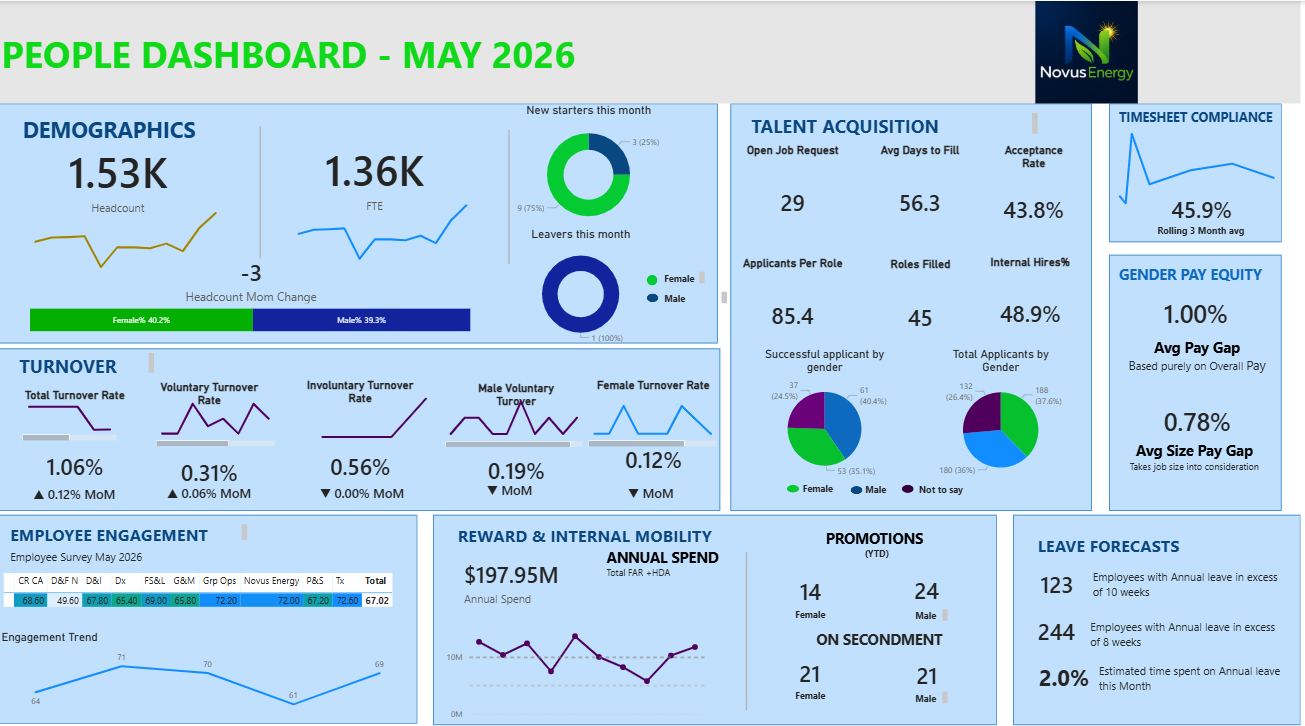

This screenshot's page, from the dashboard's own definition file:
{"tool":"powerbi","page":{"name":"Page 1","canvas":[1920,1080],"ordinal":0},"visuals":[{"type":"shape","box":[0,753.3,615.4,306.7],"z":0},{"type":"shape","box":[638.1,753.3,827.4,308.7],"z":1000},{"type":"shape","box":[1490.2,753.3,422,308.7],"z":2000},{"type":"shape","box":[1630,372.9,252.9,375.7],"z":3000},{"type":"shape","box":[1630.6,150.4,253.1,203.6],"z":4000},{"type":"shape","box":[2,510,1058,238],"z":5000},{"type":"shape","box":[1074,150,530,598],"z":6000},{"type":"shape","box":[0,150,1056,352],"z":7000},{"type":"textbox","box":[9.2,0,1911.3,122.9],"z":8000},{"type":"textbox","box":[0,0,1911.3,150.4],"z":9000},{"type":"image","box":[1520.6,0,154.1,150.4],"z":10000},{"type":"cardVisual","title":"Headcount","fields":{"Data":["Annual_Spend.Headcount"]},"box":[0,122,352,276],"z":11000},{"type":"cardVisual","title":"FTE","fields":{"Data":["Annual_Spend.FTE"]},"box":[395.2,142,317,232.6],"z":12000},{"type":"cardVisual","fields":{"Data":["Employee_Master.Headcount Mom Change"]},"box":[228,354,288,110],"z":13000},{"type":"donutChart","title":"New starters this month","fields":{"Y":["Employee_Master.New starters Male","Employee_Master.New starters Female"]},"box":[698.6,150,335.7,188.6],"z":14000},{"type":"donutChart","title":"Leavers this month","fields":{"Y":["Employee_Master.Leavers Female","Employee_Master.Leavers Male"]},"box":[670,331.4,371.4,175.7],"z":15000},{"type":"cardVisual","title":"Open Job Request","fields":{"Data":["Job_Requisitions.Open Jobs Reqs"]},"box":[1073,209,186.7,150],"z":16000},{"type":"cardVisual","title":"Applicants Per Role","fields":{"Data":["Job_Requisitions.Applicants Per Role"]},"box":[1073,374,186.7,150],"z":17000},{"type":"cardVisual","title":"Acceptance Rate","fields":{"Data":["Job_Requisitions.Acceptance Rate"]},"box":[1442.9,210,152.9,150],"z":18000},{"type":"cardVisual","title":"Internal Hires%","fields":{"Data":["Job_Requisitions.Internal Hire %"]},"box":[1430,372,168,150],"z":19000},{"type":"cardVisual","title":"Avg Days to Fill","fields":{"Data":["Job_Requisitions.Avg Days to Fill"]},"box":[1277.1,208.6,152.9,150],"z":20000},{"type":"cardVisual","title":"Total Turnover Rate","fields":{"Data":["Employee_Master.Total Turnover Rate"]},"box":[2,568,222,204],"z":21000},{"type":"cardVisual","title":"Female Turnover Rate","fields":{"Data":["Employee_Master.Female Voluntary Turnover Rate"]},"box":[854,554,214,214],"z":22000},{"type":"cardVisual","title":"Male Voluntary Turover","fields":{"Data":["Employee_Master.Male Voluntary Turnover Rate"]},"box":[658,558,204,216],"z":23000},{"type":"cardVisual","title":"Voluntary Turnover Rate","fields":{"Data":["Employee_Master.Voluntary Turnover Rate"]},"box":[210,556,202,226],"z":24000},{"type":"cardVisual","title":"Involuntary Turnover Rate","fields":{"Data":["Annual_Spend.Involuntary Turnover Rate"]},"box":[426,554,212,214],"z":25000},{"type":"cardVisual","title":"Roles Filled","fields":{"Data":["Job_Requisitions.Roles Filled"]},"box":[1258.3,376,190.8,152.2],"z":26000},{"type":"lineChart","fields":{"Category":["Headcount_History.Month.Variation.Date Hierarchy.Month"],"Y":["Avg(Headcount_History.Headcount)"]},"box":[40,298,294,102],"z":27000},{"type":"lineChart","fields":{"Y":["Avg(Headcount_History.FTE)"],"Category":["Headcount_History.Month.Variation.Date Hierarchy.Month"]},"box":[428,284,274,102],"z":28000},{"type":"barChart","fields":{"Y":["Employee_Master.Female%","Employee_Master.Male%"]},"box":[42,394,660,142],"z":29000},{"type":"shape","box":[952.9,401.4,15.7,15.7],"z":30000},{"type":"shape","box":[951.4,428.6,17.1,12.9],"z":31000},{"type":"textbox","box":[971.4,392.9,70,27.1],"z":32000},{"type":"textbox","box":[971.4,421.4,102.9,27.1],"z":33000},{"type":"pivotTable","fields":{"Values":["Engagement_Survey.Avg Engagement Score"],"Columns":["Engagement_Survey.Business_Unit"]},"box":[2.9,834.3,615.7,121.4],"z":34000},{"type":"lineChart","title":"Engagement Trend","fields":{"Category":["Engagement_Survey.Survey_Month.Variation.Date Hierarchy.Month"],"Y":["Engagement_Survey.Avg Engagement Score"]},"box":[0,922.1,615.4,119.4],"z":35000},{"type":"cardVisual","fields":{"Data":["Annual_Spend.Annual Spend"]},"box":[654.5,784.2,294.3,137.9],"z":36000},{"type":"cardVisual","fields":{"Data":["Promotions_Secondments.Promotions Female"]},"box":[1259.7,808.9,205.8,109.1],"z":37000},{"type":"cardVisual","fields":{"Data":["Promotions_Secondments.Promotions Male"]},"box":[1101.2,788.3,183.2,152.3],"z":38000},{"type":"cardVisual","fields":{"Data":["Promotions_Secondments.On Secondment Female"]},"box":[1071.2,930,240.3,110.1],"z":39000},{"type":"cardVisual","fields":{"Data":["Promotions_Secondments.On Secondment Male"]},"box":[1216.5,938.6,294.3,96.7],"z":40000},{"type":"cardVisual","fields":{"Data":["Timesheets.Timesheet Compliance"]},"box":[1619.6,229.3,293.5,150.4],"z":41000},{"type":"cardVisual","fields":{"Data":["Salary_Data.Gender Pay Gap"]},"box":[1610,390,294.3,131.4],"z":42000},{"type":"cardVisual","fields":{"Data":["Leave_Balances.Leave Excess 10 Weeks"]},"box":[1490.2,811,129.7,86.4],"z":43000},{"type":"cardVisual","fields":{"Data":["Leave_Balances.Leave Excess 8 Weeks"]},"box":[1490.2,878.9,127.6,90.6],"z":44000},{"type":"cardVisual","fields":{"Data":["Salary_Data.Size Adjustment Pay Gap"]},"box":[1608.6,558.6,302.9,111.4],"z":45000},{"type":"lineChart","fields":{"Category":["Timesheets.Week_Ending.Variation.Date Hierarchy.Day"],"Y":["Timesheets.Monthly Timesheet Compliance"]},"box":[1614.3,160,290,162.9],"z":46000},{"type":"lineChart","fields":{"Category":["Annual_Spend.Month.Variation.Date Hierarchy.Month"],"Y":["Sum(Annual_Spend.Amount)"]},"box":[652.5,907.7,389,152.3],"z":47000},{"type":"textbox","box":[12.3,763.6,358.1,37],"z":48000},{"type":"textbox","box":[12.9,800,300,34.3],"z":49000},{"type":"lineChart","fields":{"Category":["Headcount_History.Month.Variation.Date Hierarchy.Month"],"Y":["Sum(Headcount_History.Headcount)"]},"box":[32,576,148,74],"z":50000},{"type":"lineChart","fields":{"Category":["Employee_Master.Termination_Date.Variation.Date Hierarchy.Month"],"Y":["Employee_Master.Monthly Voluntary Turnover"]},"box":[228,572,184,86],"z":51000},{"type":"lineChart","fields":{"Category":["Employee_Master.Termination_Date.Variation.Date Hierarchy.Month"],"Y":["Employee_Master.Voluntary Turnover Rate"]},"box":[452,556,202,110],"z":52000},{"type":"lineChart","fields":{"Category":["Employee_Master.Termination_Date.Variation.Date Hierarchy.Month"],"Y":["Employee_Master.Monthly Voluntary Turnover"]},"box":[650.4,568.1,212,90.6],"z":53000},{"type":"lineChart","fields":{"Category":["Employee_Master.Termination_Date.Variation.Date Hierarchy.Month"],"Series":["Employee_Master.Termination_Type"],"Y":["Employee_Master.Monthly Voluntary Turnover"]},"box":[862.4,576.3,197.6,82.3],"z":54000},{"type":"textbox","box":[1521.1,778,300.5,55.6],"z":55000},{"type":"textbox","box":[670,762.5,430,42.5],"z":56000},{"type":"textbox","box":[887.1,796.6,257.3,65.9],"z":57000},{"type":"textbox","box":[1601.4,829.5,298.5,53.5],"z":58000},{"type":"textbox","box":[1597.3,901.5,298.5,53.5],"z":59000},{"type":"pieChart","title":"Successful applicant by gender","fields":{"Category":["Applicant_Demographics.Gender"],"Y":["CountNonNull(Applicant_Demographics.Applicant_ID)"]},"box":[1100,508.3,225,198.3],"z":60000},{"type":"pieChart","title":"Total Applicants by Gender","fields":{"Y":["CountNonNull(Applicant_Demographics.Applicant_ID)"],"Category":["Applicant_Demographics.Gender"]},"box":[1356.7,508.3,228.3,201.7],"z":61000},{"type":"textbox","box":[1100,160,430,42.5],"z":62000},{"type":"textbox","box":[1640,151.7,280,41.7],"z":63000},{"type":"shape","box":[1156.7,710,18.3,11.7],"z":64000},{"type":"textbox","box":[1175.6,701.1,58.9,28.9],"z":65000},{"type":"shape","box":[1251.1,711.1,17.8,12.2],"z":66000},{"type":"textbox","box":[1267.8,703.3,57.8,27.8],"z":67000},{"type":"shape","box":[1325.6,710,17.8,12.2],"z":68000},{"type":"textbox","box":[1346.7,702.2,102.2,27.8],"z":69000},{"type":"textbox","box":[1640,381.7,280,41.7],"z":70000},{"type":"shape","box":[948.3,808.3,300,231.7],"z":71000},{"type":"textbox","box":[1637.1,488.6,242.9,65.7],"z":72000},{"type":"textbox","box":[1627.1,640,257.1,67.1],"z":73000},{"type":"textbox","box":[1675.5,323.2,181.1,30.9],"z":74000},{"type":"textbox","box":[1523.2,967.4,96.7,59.7],"z":75000},{"type":"textbox","box":[1609.6,967.4,298.5,53.5],"z":76000},{"type":"textbox","box":[1156.8,767.8,257.3,65.9],"z":77000},{"type":"textbox","box":[1165,885.1,59.7,43.2],"z":78000},{"type":"textbox","box":[1340,887.1,57.6,26.8],"z":79000},{"type":"textbox","box":[1165,1004.5,59.7,43.2],"z":80000},{"type":"textbox","box":[1340,1008.6,57.6,26.8],"z":81000},{"type":"textbox","box":[1165,918,257.3,65.9],"z":82000},{"type":"textbox","box":[32,162,430,68],"z":83000},{"type":"shape","box":[234,184,300,194],"z":84000},{"type":"shape","box":[600,188.6,300,197.1],"z":85000},{"type":"textbox","box":[26,512,208,42],"z":86000},{"type":"cardVisual","fields":{"Data":["Employee_Master.Total Turnover MoM Display"]},"box":[0,687.5,224.4,67.9],"z":87000},{"type":"cardVisual","fields":{"Data":["Employee_Master.Voluntary Turnover MoM Display"]},"box":[207.9,683.4,205.8,72],"z":88000},{"type":"cardVisual","fields":{"Data":["Employee_Master.Involuntary Turnover MoM Display"]},"box":[384.9,572.2,298.5,298.5],"z":89000},{"type":"cardVisual","fields":{"Data":["Employee_Master.Male Vol Turnover MoM Display"]},"box":[601,683.4,298.5,65.9],"z":90000},{"type":"cardVisual","fields":{"Data":["Employee_Master.Female Vol Turnover MoM Display"]},"box":[808.9,693.7,298.5,55.6],"z":91000}]}

Visuals, with their boxes in screenshot pixels (x1, y1, x2, y2), scaled from the page's 1920x1080 canvas onto the 1305x726 screenshot:
shape: 0 506 418 713
shape: 434 506 996 714
shape: 1013 506 1300 714
shape: 1108 251 1280 503
shape: 1108 101 1280 238
shape: 1 343 720 503
shape: 730 101 1090 503
shape: 0 101 718 337
textbox: 6 0 1304 83
textbox: 0 0 1299 101
image: 1034 0 1138 101
"Headcount" cardVisual: 0 82 239 268
"FTE" cardVisual: 269 95 484 252
cardVisual - Employee_Master.Headcount Mom Change: 155 238 351 312
"New starters this month" donutChart: 475 101 703 228
"Leavers this month" donutChart: 455 223 708 341
"Open Job Request" cardVisual: 729 140 856 241
"Applicants Per Role" cardVisual: 729 251 856 352
"Acceptance Rate" cardVisual: 981 141 1085 242
"Internal Hires%" cardVisual: 972 250 1086 351
"Avg Days to Fill" cardVisual: 868 140 972 241
"Total Turnover Rate" cardVisual: 1 382 152 519
"Female Turnover Rate" cardVisual: 580 372 726 516
"Male Voluntary Turover" cardVisual: 447 375 586 520
"Voluntary Turnover Rate" cardVisual: 143 374 280 526
"Involuntary Turnover Rate" cardVisual: 290 372 434 516
"Roles Filled" cardVisual: 855 253 985 355
lineChart - Headcount_History.Month.Variation.Date Hierarchy.Month x Avg(Headcount_History.Headcount): 27 200 227 269
lineChart - Avg(Headcount_History.FTE) x Headcount_History.Month.Variation.Date Hierarchy.Month: 291 191 477 259
barChart - Employee_Master.Female% x Employee_Master.Male%: 29 265 477 360
shape: 648 270 658 280
shape: 647 288 658 297
textbox: 660 264 708 282
textbox: 660 283 730 301
pivotTable - Engagement_Survey.Avg Engagement Score x Engagement_Survey.Business_Unit: 2 561 420 642
"Engagement Trend" lineChart: 0 620 418 700
cardVisual - Annual_Spend.Annual Spend: 445 527 645 620
cardVisual - Promotions_Secondments.Promotions Female: 856 544 996 617
cardVisual - Promotions_Secondments.Promotions Male: 748 530 873 632
cardVisual - Promotions_Secondments.On Secondment Female: 728 625 891 699
cardVisual - Promotions_Secondments.On Secondment Male: 827 631 1027 696
cardVisual - Timesheets.Timesheet Compliance: 1101 154 1300 255
cardVisual - Salary_Data.Gender Pay Gap: 1094 262 1294 350
cardVisual - Leave_Balances.Leave Excess 10 Weeks: 1013 545 1101 603
cardVisual - Leave_Balances.Leave Excess 8 Weeks: 1013 591 1100 652
cardVisual - Salary_Data.Size Adjustment Pay Gap: 1093 376 1299 450
lineChart - Timesheets.Week_Ending.Variation.Date Hierarchy.Day x Timesheets.Monthly Timesheet Compliance: 1097 108 1294 217
lineChart - Annual_Spend.Month.Variation.Date Hierarchy.Month x Sum(Annual_Spend.Amount): 443 610 708 713
textbox: 8 513 252 538
textbox: 9 538 213 561
lineChart - Headcount_History.Month.Variation.Date Hierarchy.Month x Sum(Headcount_History.Headcount): 22 387 122 437
lineChart - Employee_Master.Termination_Date.Variation.Date Hierarchy.Month x Employee_Master.Monthly Voluntary Turnover: 155 385 280 442
lineChart - Employee_Master.Termination_Date.Variation.Date Hierarchy.Month x Employee_Master.Voluntary Turnover Rate: 307 374 445 448
lineChart - Employee_Master.Termination_Date.Variation.Date Hierarchy.Month x Employee_Master.Monthly Voluntary Turnover: 442 382 586 443
lineChart - Employee_Master.Termination_Date.Variation.Date Hierarchy.Month x Employee_Master.Termination_Type: 586 387 720 443
textbox: 1034 523 1238 560
textbox: 455 513 748 541
textbox: 603 535 778 580
textbox: 1088 558 1291 594
textbox: 1086 606 1289 642
"Successful applicant by gender" pieChart: 748 342 901 475
"Total Applicants by Gender" pieChart: 922 342 1077 477
textbox: 748 108 1040 136
textbox: 1115 102 1304 130
shape: 786 477 799 485
textbox: 799 471 839 491
shape: 850 478 862 486
textbox: 862 473 901 491
shape: 901 477 913 485
textbox: 915 472 985 491
textbox: 1115 257 1304 285
shape: 645 543 848 699
textbox: 1113 328 1278 373
textbox: 1106 430 1281 475
textbox: 1139 217 1262 238
textbox: 1035 650 1101 690
textbox: 1094 650 1297 686
textbox: 786 516 961 560
textbox: 792 595 832 624
textbox: 911 596 950 614
textbox: 792 675 832 704
textbox: 911 678 950 696
textbox: 792 617 967 661
textbox: 22 109 314 155
shape: 159 124 363 254
shape: 408 127 612 259
textbox: 18 344 159 372
cardVisual - Employee_Master.Total Turnover MoM Display: 0 462 153 508
cardVisual - Employee_Master.Voluntary Turnover MoM Display: 141 459 281 508
cardVisual - Employee_Master.Involuntary Turnover MoM Display: 262 385 464 585
cardVisual - Employee_Master.Male Vol Turnover MoM Display: 408 459 611 504
cardVisual - Employee_Master.Female Vol Turnover MoM Display: 550 466 753 504
